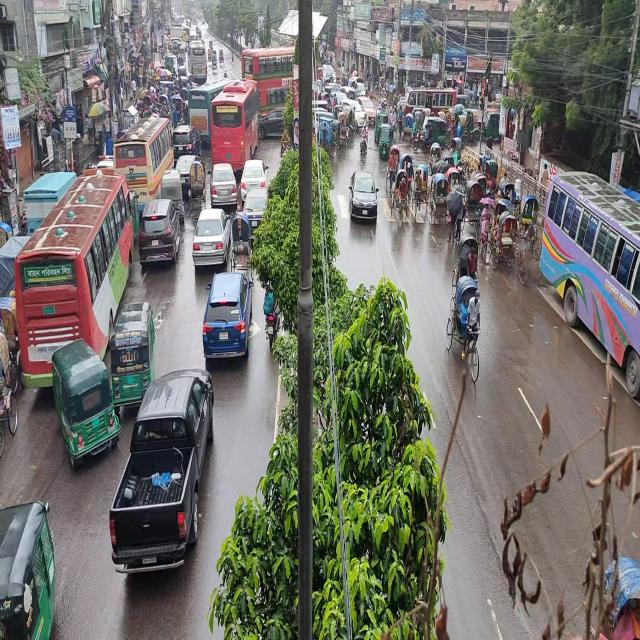black: (112, 374, 214, 581), (138, 194, 179, 266)
